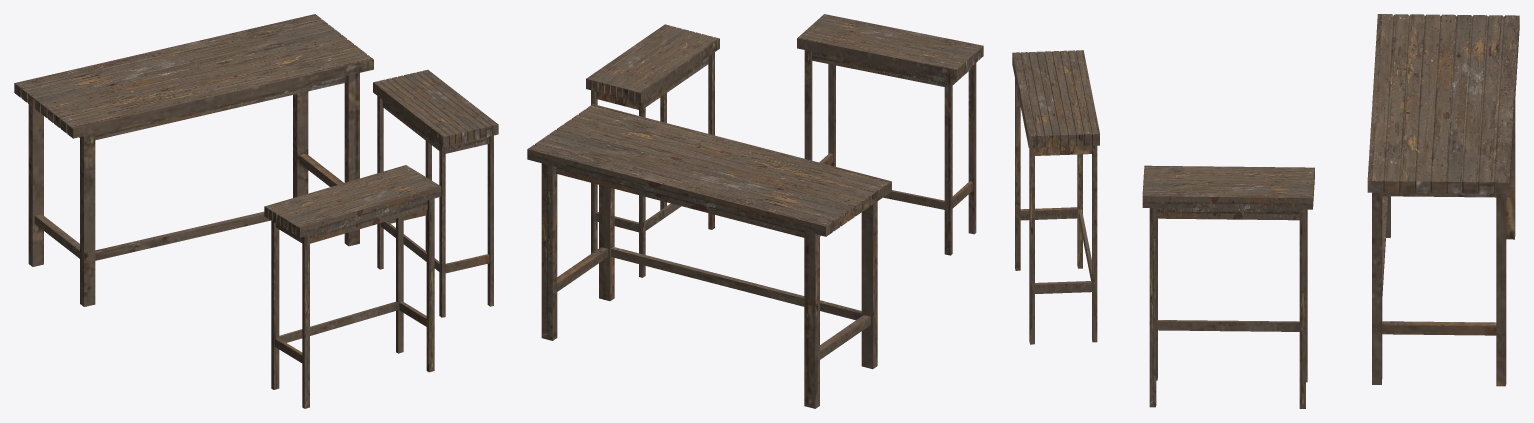
Rendered from Mesa.glb.
3 renders of one model, left to right at view 1: azimuth 30°, elevation 25°; view 2: azimuth 150°, elevation 25°; view 3: azimuth 270°, elevation 25°, orthographic. The views are drawn at different scales.
Visible parts, largest first — view 1: Mesa01, Mesa03, Mesa02; view 2: Mesa01, Mesa03, Mesa02; view 3: Mesa01, Mesa02, Mesa03.
Boxes of the visible parts, x1,y1,x2,y2 form: Mesa01: (14, 14, 373, 306); Mesa03: (264, 165, 441, 408); Mesa02: (373, 69, 498, 317); Mesa01: (527, 104, 891, 408); Mesa03: (797, 14, 983, 255); Mesa02: (586, 24, 719, 277); Mesa01: (1367, 14, 1519, 386); Mesa02: (1142, 165, 1314, 408); Mesa03: (1012, 50, 1099, 344).
Size of the model in its own units: 1.91 by 1.03 by 2.23.
Materials: 1 (1 with a texture image).
